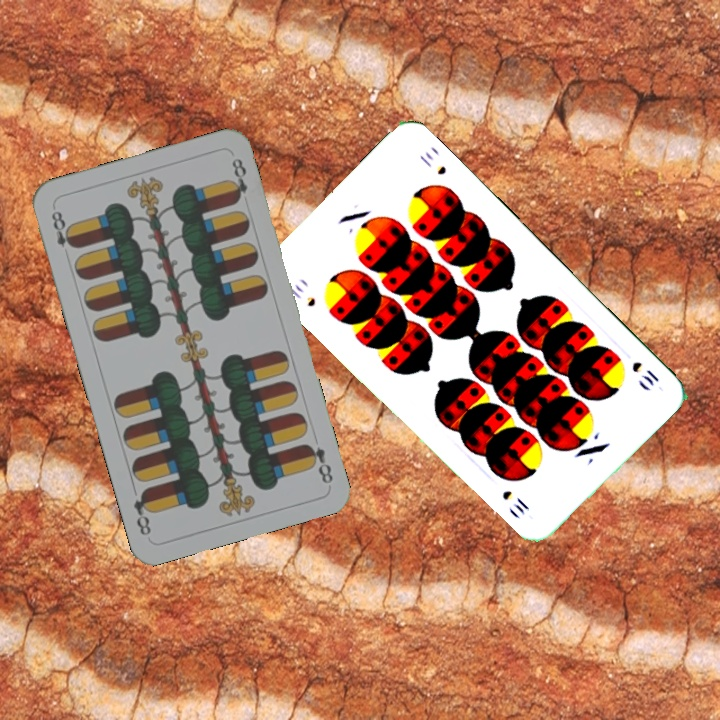E8: (301, 439, 336, 487), (47, 203, 79, 251)
S10: (628, 357, 662, 389), (285, 280, 318, 309)
